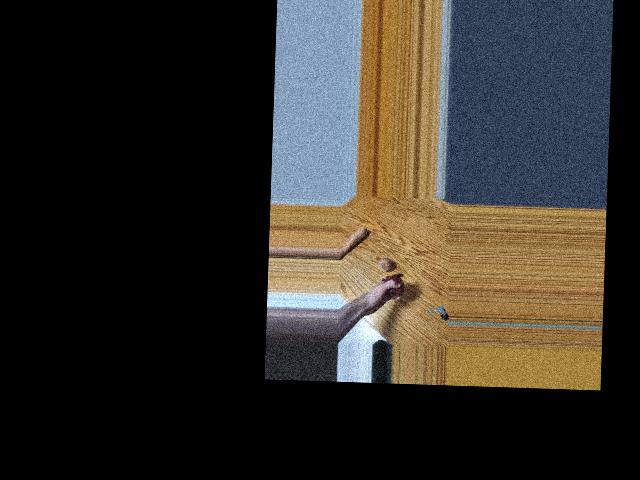onion: (378, 256, 393, 273)
